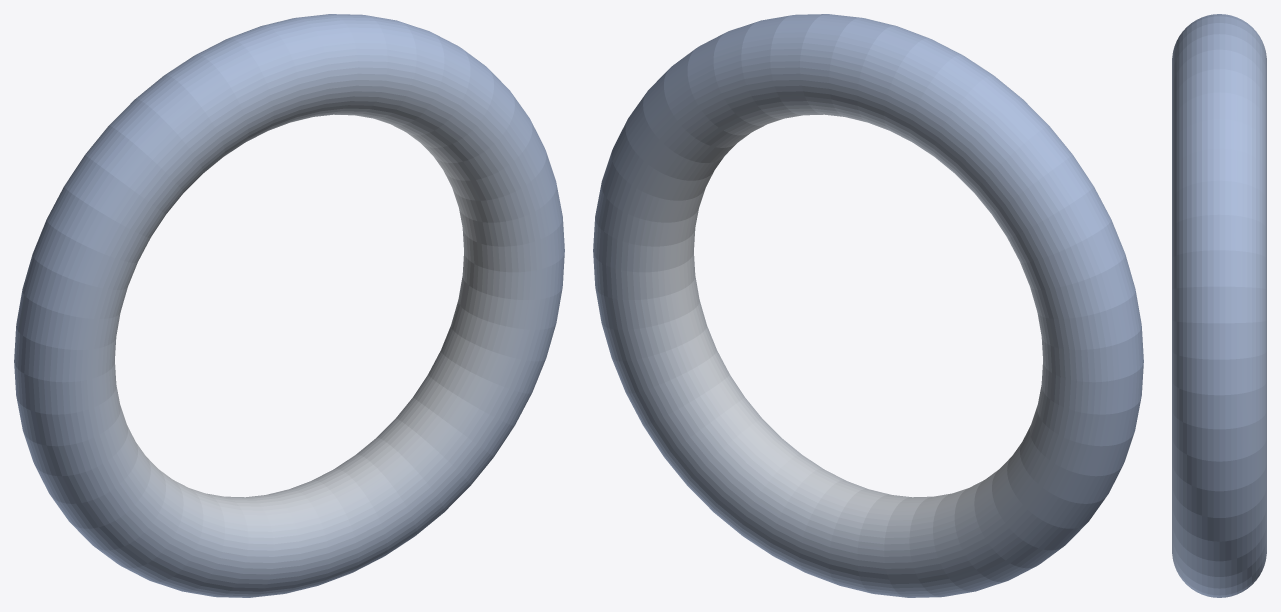
3 views of the same model, side by side, from view 1: azimuth 30°, elevation 25°; view 2: azimuth 150°, elevation 25°; view 3: azimuth 270°, elevation 25° (orthographic). The views are drawn at different scales.
Visible parts, largest first — view 1: world; view 2: world; view 3: world.
Boxes of the visible parts, left/top/right/bottom form: world: left=14, top=14, right=564, bottom=597; world: left=593, top=14, right=1143, bottom=597; world: left=1172, top=14, right=1266, bottom=597.
Bounding box in the file's own units: 27.07 × 27.01 × 4.39.
